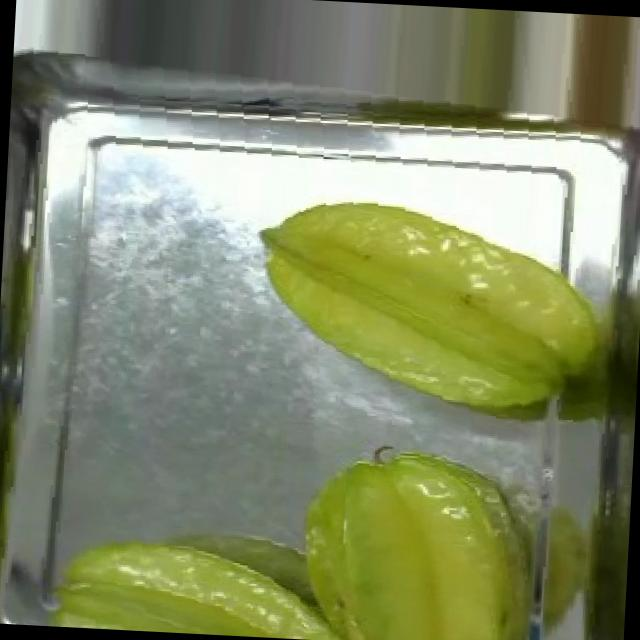fruit: (256, 189, 618, 431), (278, 426, 567, 640), (28, 509, 382, 640)
